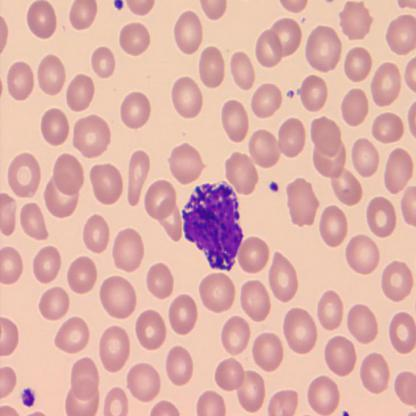Basophil: (182, 180, 245, 272)
